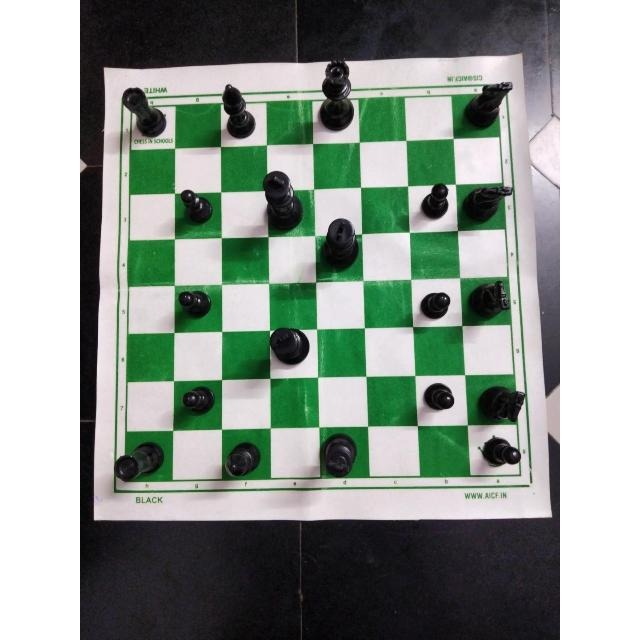black-bishop: (220, 79, 262, 140), (222, 431, 266, 480)
black-king: (257, 169, 307, 230), (316, 214, 364, 270), (319, 428, 363, 484), (267, 322, 313, 366)
black-knight: (457, 79, 515, 132), (473, 381, 529, 424), (461, 182, 514, 226), (463, 276, 512, 321)
black-pawn: (173, 283, 220, 326), (477, 432, 525, 472), (176, 185, 216, 227), (175, 379, 217, 417), (416, 181, 452, 223), (415, 287, 457, 323), (421, 380, 457, 416)
black-queen: (315, 60, 359, 136)
black-rook: (120, 84, 170, 140), (113, 440, 171, 484)
